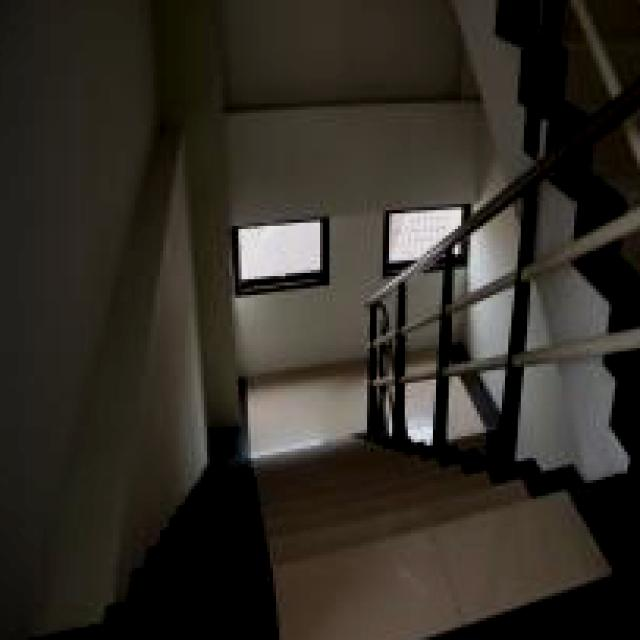downstair: (186, 443, 569, 640)
